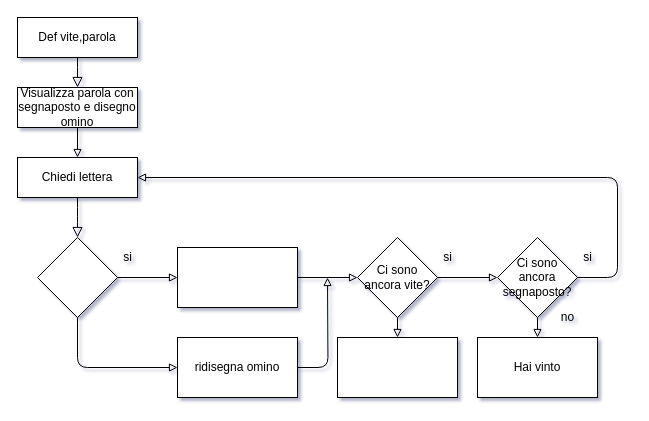
The diagram is 649 pixels wide and 421 high, and some of its shapes have lost their labels. Here are the shapes that lost their labels. From the top down, the centre of each, then its label:
At [77,277]: "lettera in parola?".
At [237,277]: "riscrivi parola vita-=1 ridisegna omino".
At [397,367]: "Hai perso".
